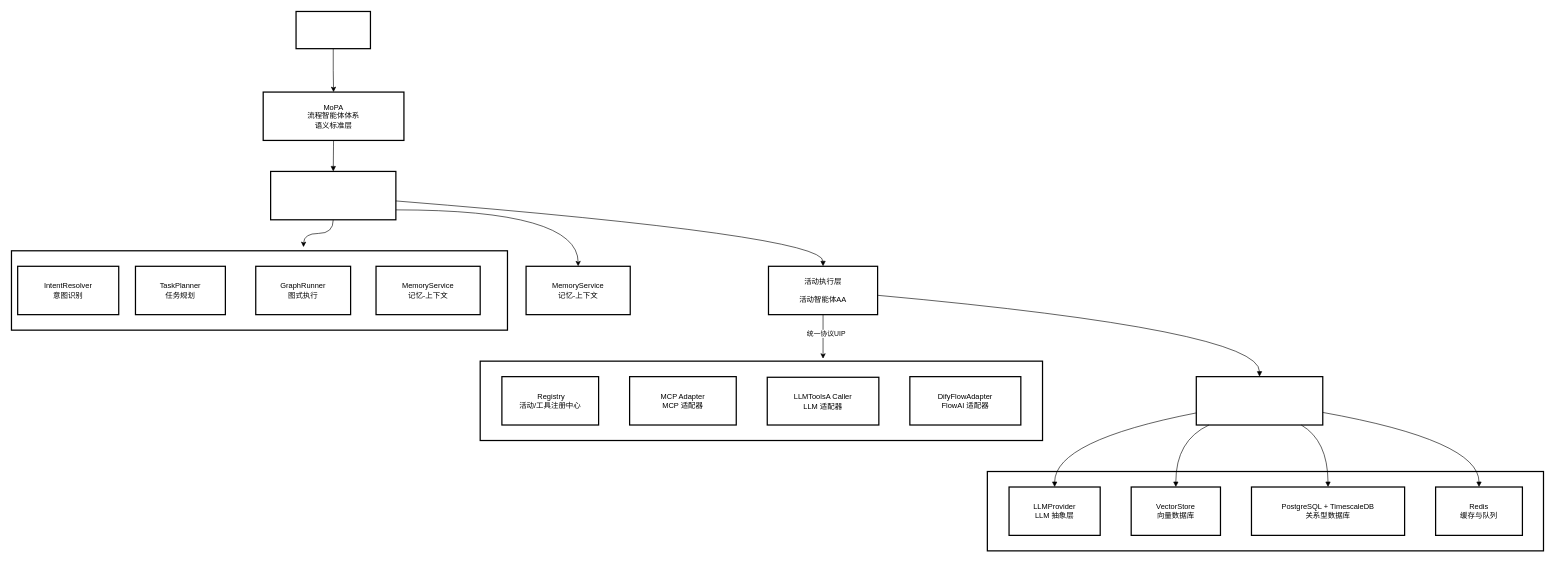
Some shapes in this 1554 by 562 pixel diagram are drawn without their labels. Each missing label, with the box of its shape:
Main Agent Loop: (11, 250, 508, 330)
基础设施层: (986, 471, 1544, 551)
基础设施层 Infrastructure Layer: (1195, 376, 1323, 425)
流程执行层 流程智能体PA: (270, 170, 396, 220)
用户输入: (295, 11, 371, 49)
能力层: (479, 360, 1043, 441)
